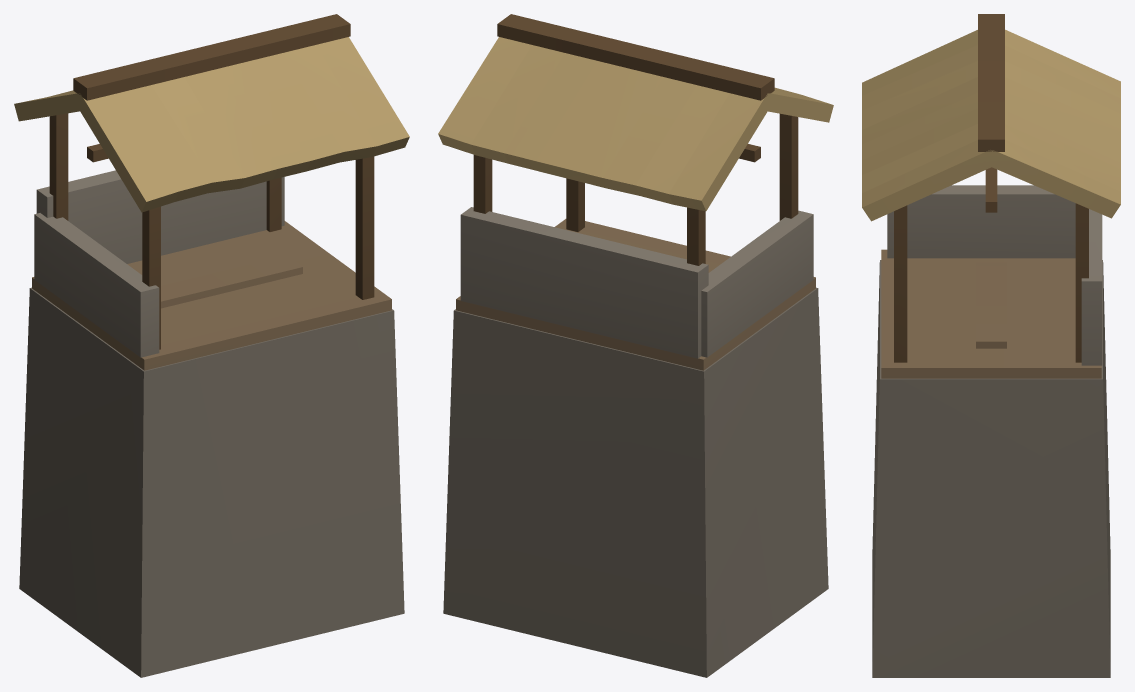
The model's file is killke_ramada_lod0.glb.
The picture shows the model from 3 angles, left to right: view 1: azimuth 30°, elevation 25°; view 2: azimuth 150°, elevation 25°; view 3: azimuth 270°, elevation 25°; orthographic projection. The views are drawn at different scales.
Parts seen in each view (by area): view 1: GEO-Arch_killke_ramada_LOD0; view 2: GEO-Arch_killke_ramada_LOD0; view 3: GEO-Arch_killke_ramada_LOD0.
Boxes of the visible parts, x1,y1,x2,y2 form: GEO-Arch_killke_ramada_LOD0: [14, 14, 409, 677]; GEO-Arch_killke_ramada_LOD0: [438, 14, 833, 677]; GEO-Arch_killke_ramada_LOD0: [862, 14, 1120, 677].
Bounding box in the file's own units: 4 × 7.98 × 3.48.
